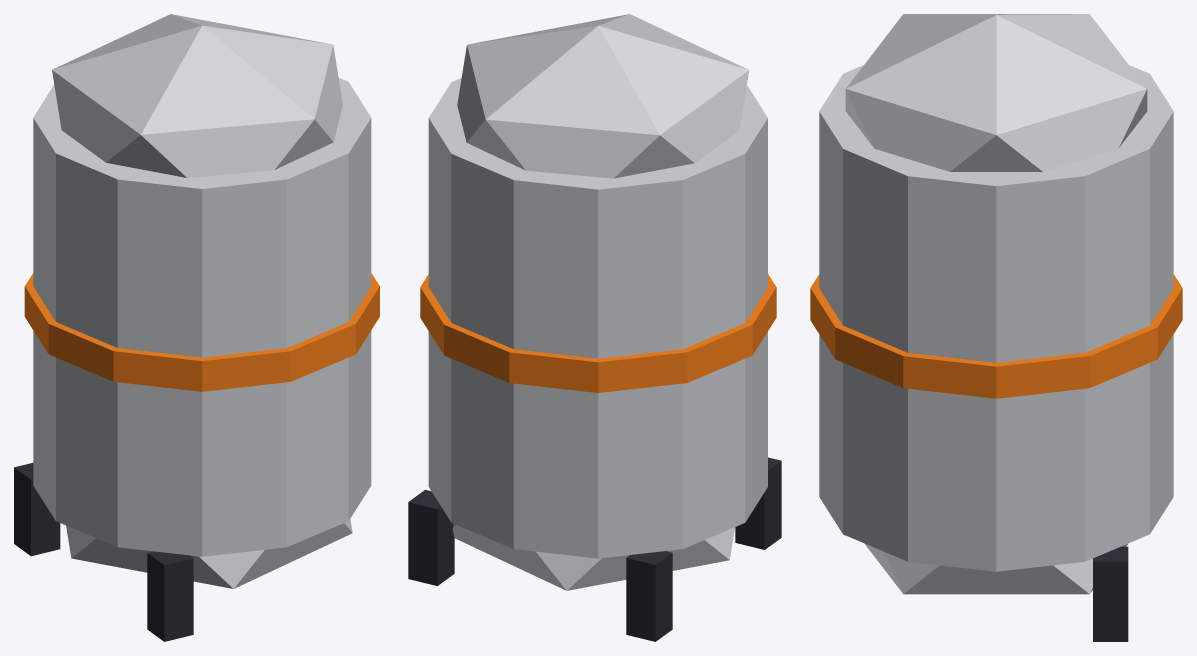
The model's file is lunar-fuel-tank.glb.
3 views of the same model, side by side, from view 1: azimuth 30°, elevation 25°; view 2: azimuth 150°, elevation 25°; view 3: azimuth 270°, elevation 25° (orthographic). The views are drawn at different scales.
Parts seen in each view (by area): view 1: fuel_tank; view 2: fuel_tank; view 3: fuel_tank.
Boxes of the visible parts, x1,y1,x2,y2 form: fuel_tank: [14, 14, 379, 641]; fuel_tank: [408, 14, 781, 641]; fuel_tank: [810, 14, 1182, 641].
Size of the model in its own units: 2.1 by 3.6 by 2.1.
